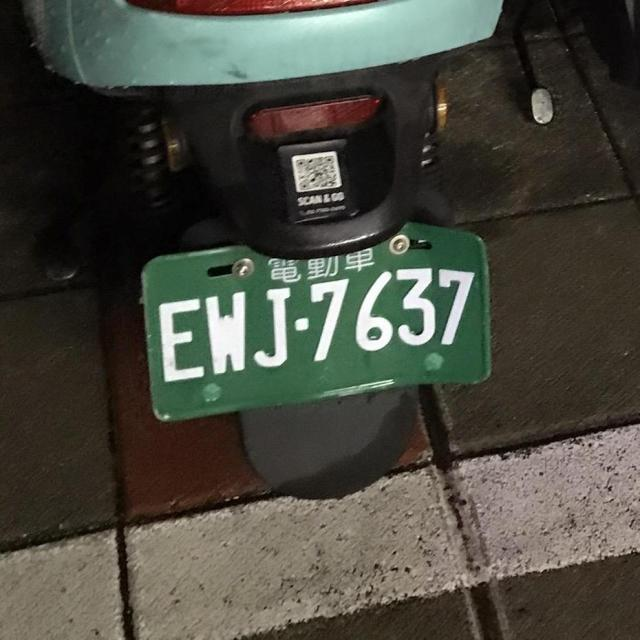GW: (140, 218, 494, 422)
